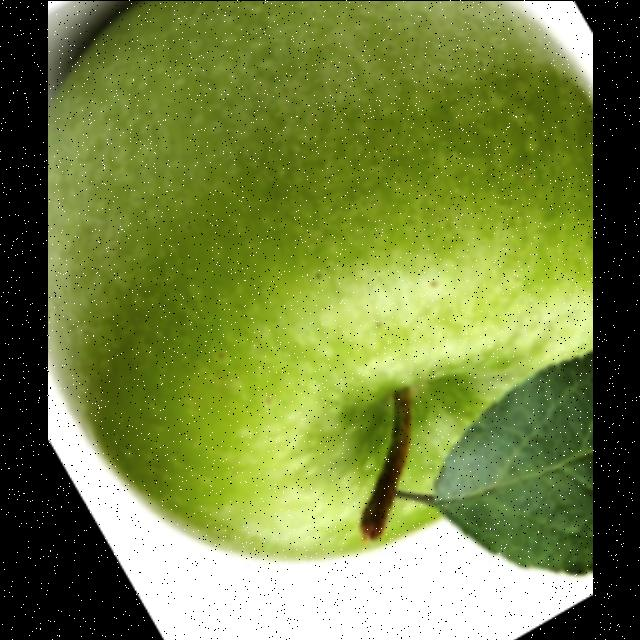Apel Segar: (48, 0, 592, 568)
